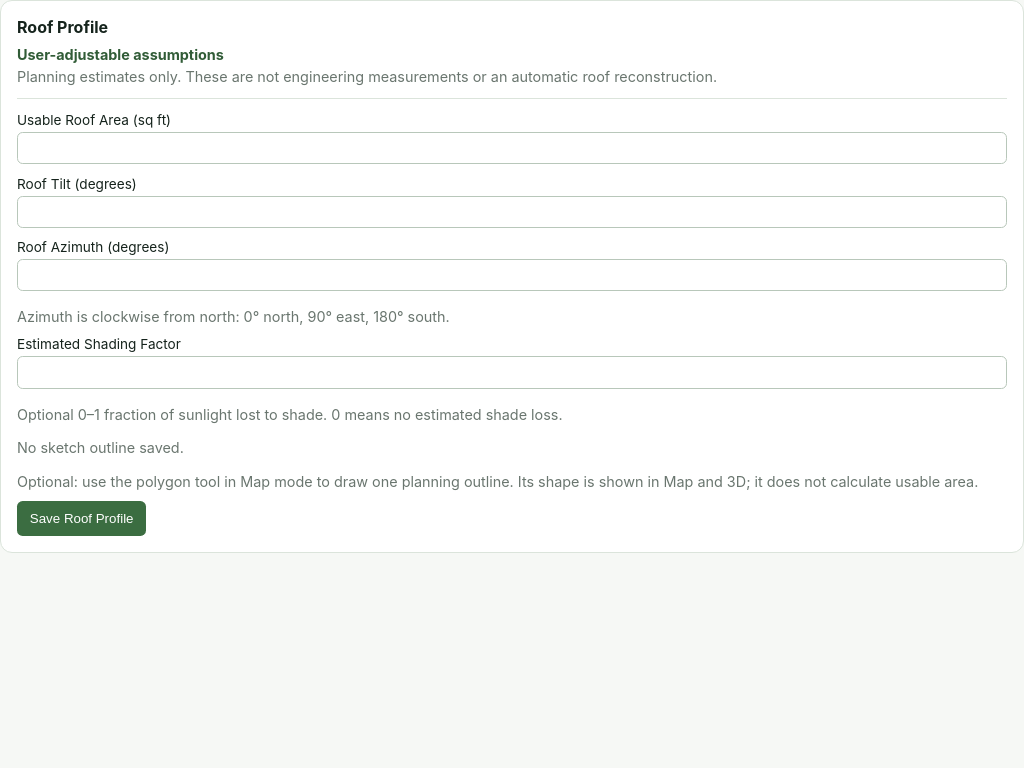
Test: RoofProfilePanel › requires tilt and azimuth and rejects invalid area before saving
This screenshot has width=1024, height=768.
Click the button "Save Roof Profile" at (82, 518), box [17, 501, 146, 536]
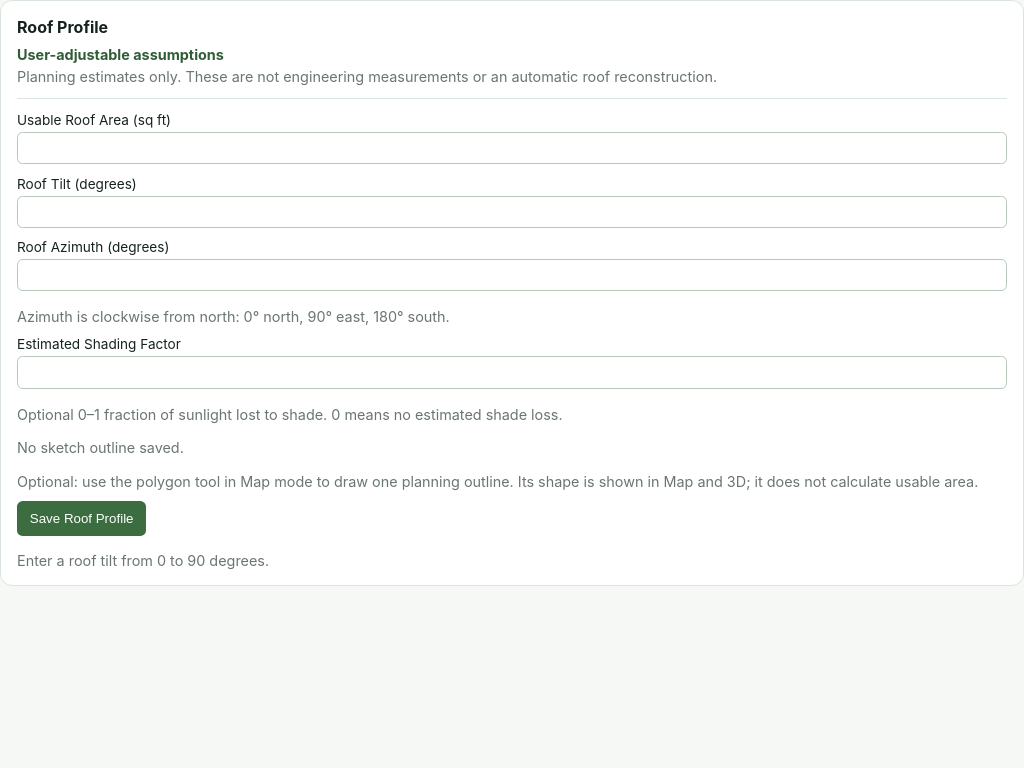
Result: the message shows "tilt from 0 to 90" at [17, 552, 269, 569]
Type "20" into the number field labelled "Roof Tilt (degrees)" at (512, 212), box [17, 196, 1007, 228]
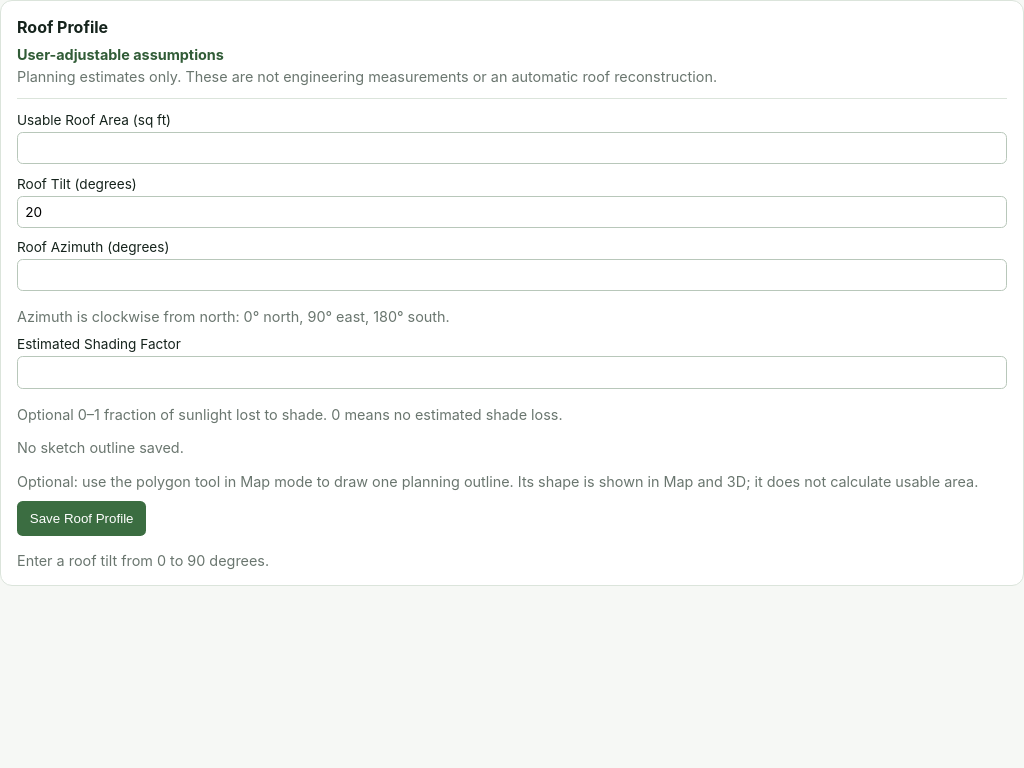
Type "180" into the number field labelled "Roof Azimuth (degrees)" at (512, 275), box [17, 259, 1007, 292]
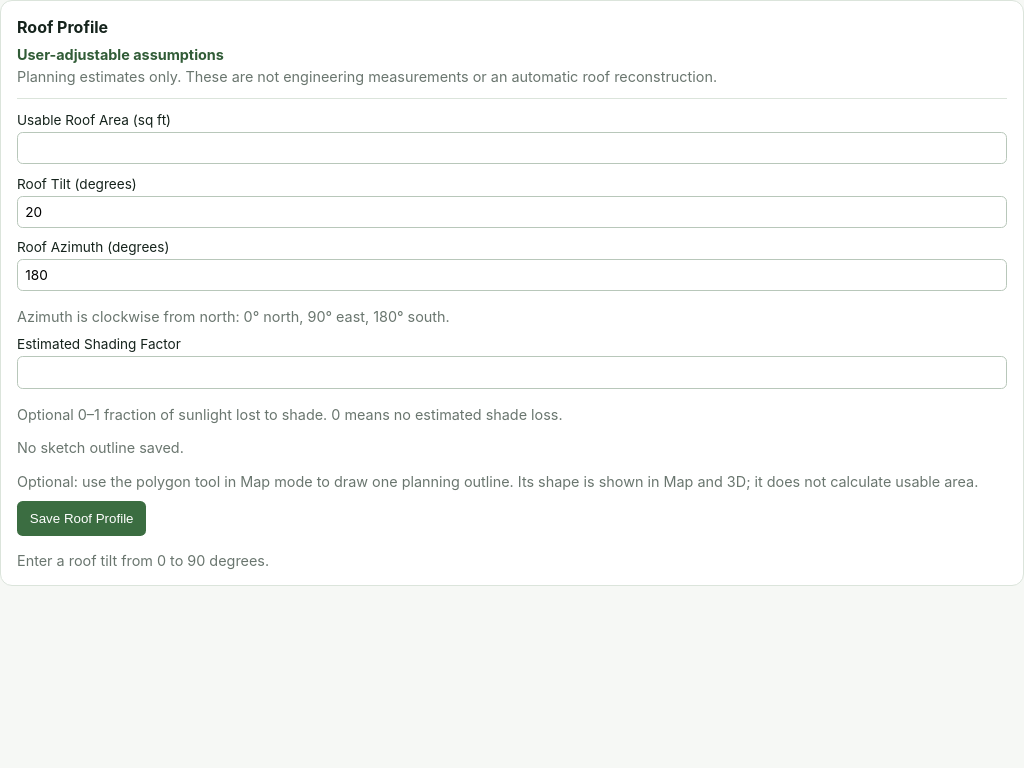
Type "-1" into the number field labelled "Usable Roof Area (sq ft)" at (512, 148), box [17, 132, 1007, 164]
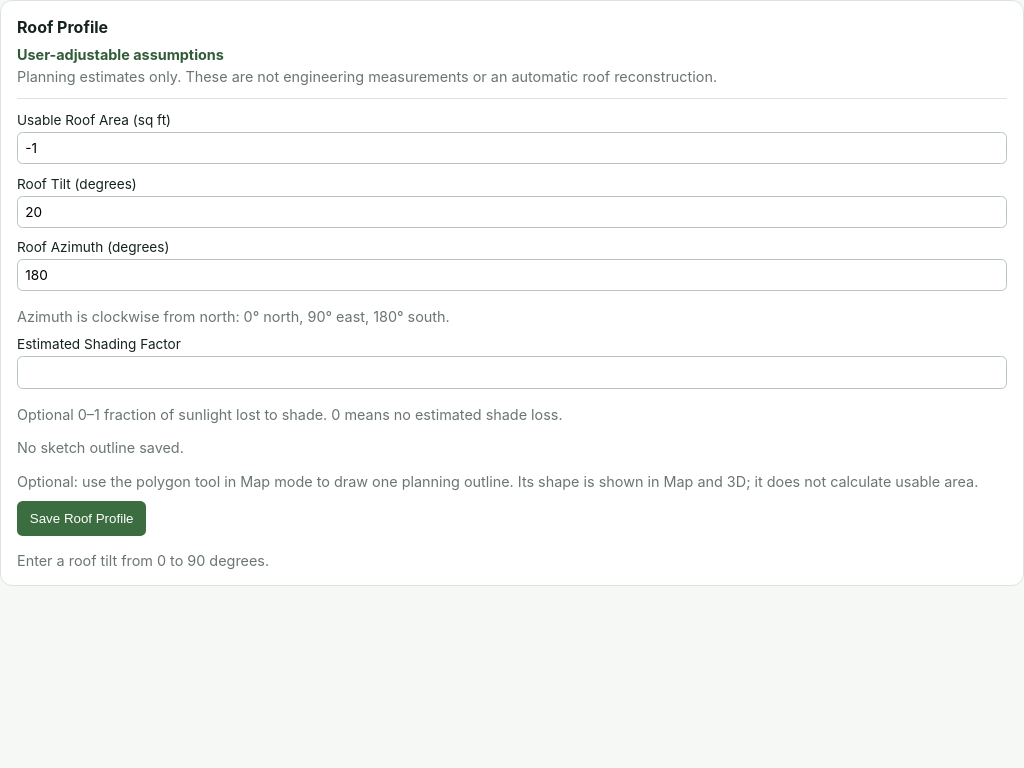
Click the button "Save Roof Profile" at (82, 518), box [17, 501, 146, 536]
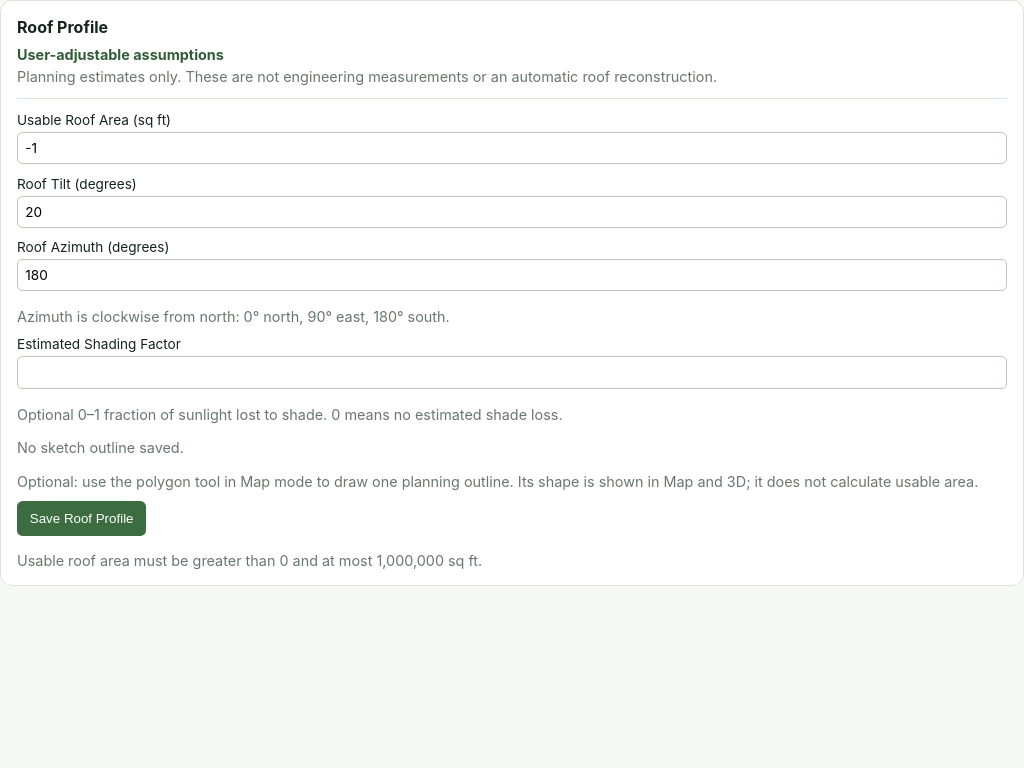
Result: the message shows "Usable roof area must be greater than 0" at [17, 552, 482, 569]
